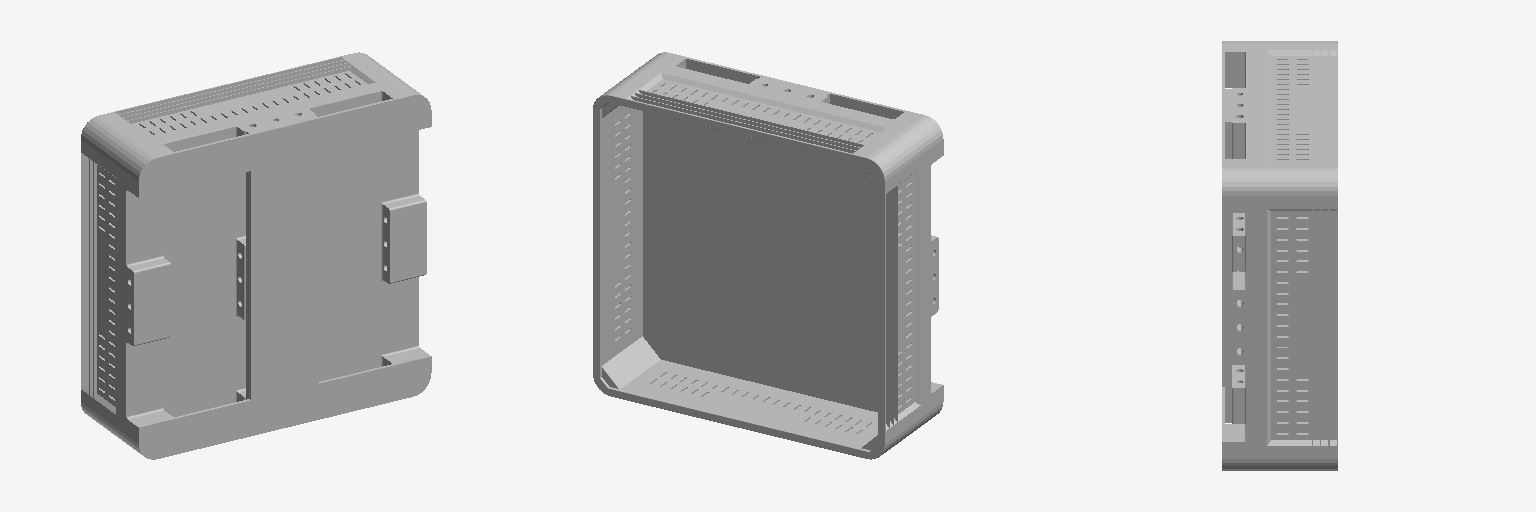
The model's file is bin1.obj.
The picture shows the model from 3 angles: view 1: azimuth 30°, elevation 25°; view 2: azimuth 150°, elevation 25°; view 3: azimuth 270°, elevation 25°; orthographic projection.
Parts seen in each view (by area): view 1: Part__Feature; view 2: Part__Feature; view 3: Part__Feature.
Part boxes in pixels (bbox=[...]): Part__Feature: bbox=[81, 52, 431, 459]; Part__Feature: bbox=[593, 52, 943, 459]; Part__Feature: bbox=[1222, 41, 1337, 470].
Bounding box in the file's own units: 121 × 119 × 41.91.